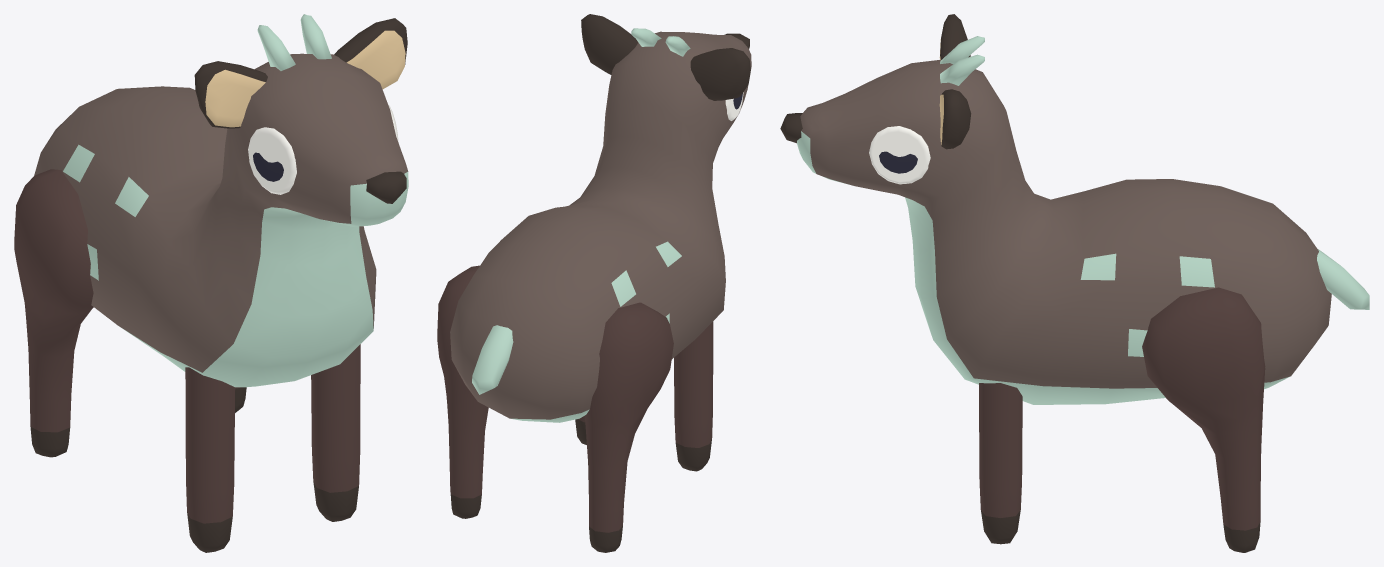
Rendered from deer.glb.
3 views of the same model, side by side, from view 1: azimuth 30°, elevation 25°; view 2: azimuth 150°, elevation 25°; view 3: azimuth 270°, elevation 25° (orthographic). The views are drawn at different scales.
Visible parts, largest first — view 1: 31; view 2: 31; view 3: 31.
Part boxes in pixels (x1=…): 31: x1=14, y1=14, x2=408, y2=552; 31: x1=437, y1=14, x2=751, y2=552; 31: x1=780, y1=14, x2=1369, y2=552.
Size of the model in its own units: 1.41 by 2.64 by 3.01.
Materials: 1 (1 with a texture image).
